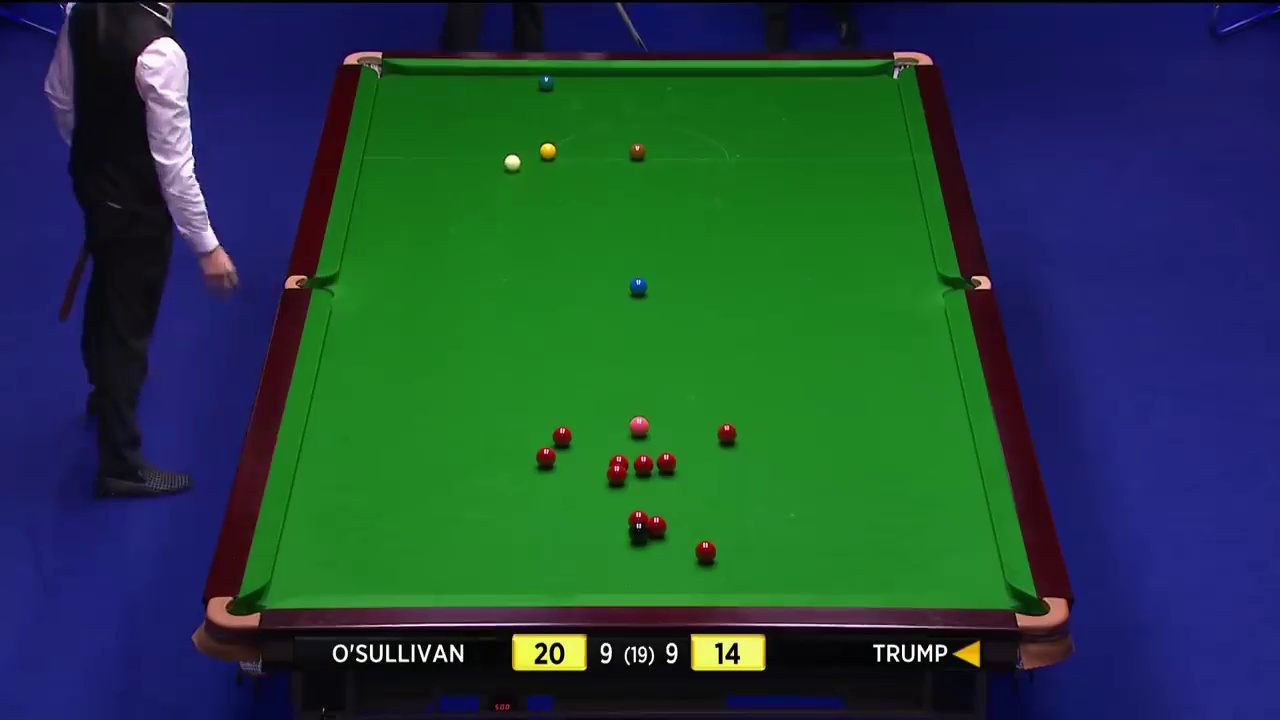ball: (533, 446, 564, 469), (654, 452, 680, 475), (607, 462, 628, 487), (628, 416, 653, 436), (693, 539, 715, 559), (647, 515, 666, 538), (538, 141, 562, 159), (715, 422, 735, 443), (534, 74, 555, 91), (630, 140, 647, 161), (500, 153, 522, 169), (628, 277, 646, 296)
